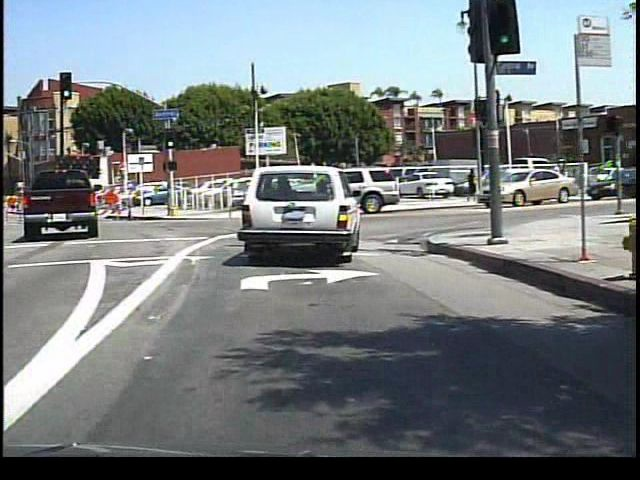person: (460, 165, 473, 205)
